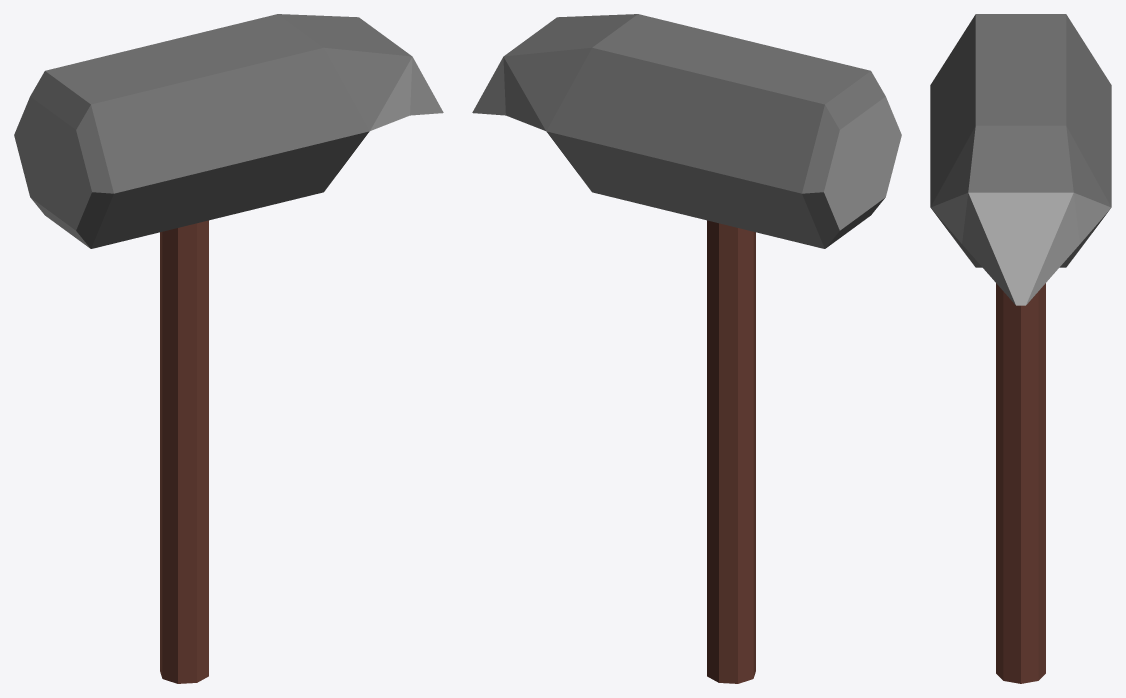
File: Hammer.fbx
3 views of the same model, side by side, from view 1: azimuth 30°, elevation 25°; view 2: azimuth 150°, elevation 25°; view 3: azimuth 270°, elevation 25° (orthographic).
Parts seen in each view (by area): view 1: Hammer; view 2: Hammer; view 3: Hammer.
Boxes of the visible parts, bbox=[...] form: Hammer: bbox=[14, 14, 443, 683]; Hammer: bbox=[472, 14, 901, 683]; Hammer: bbox=[930, 14, 1111, 683].
Size of the model in its own units: 487 by 736 by 200.
